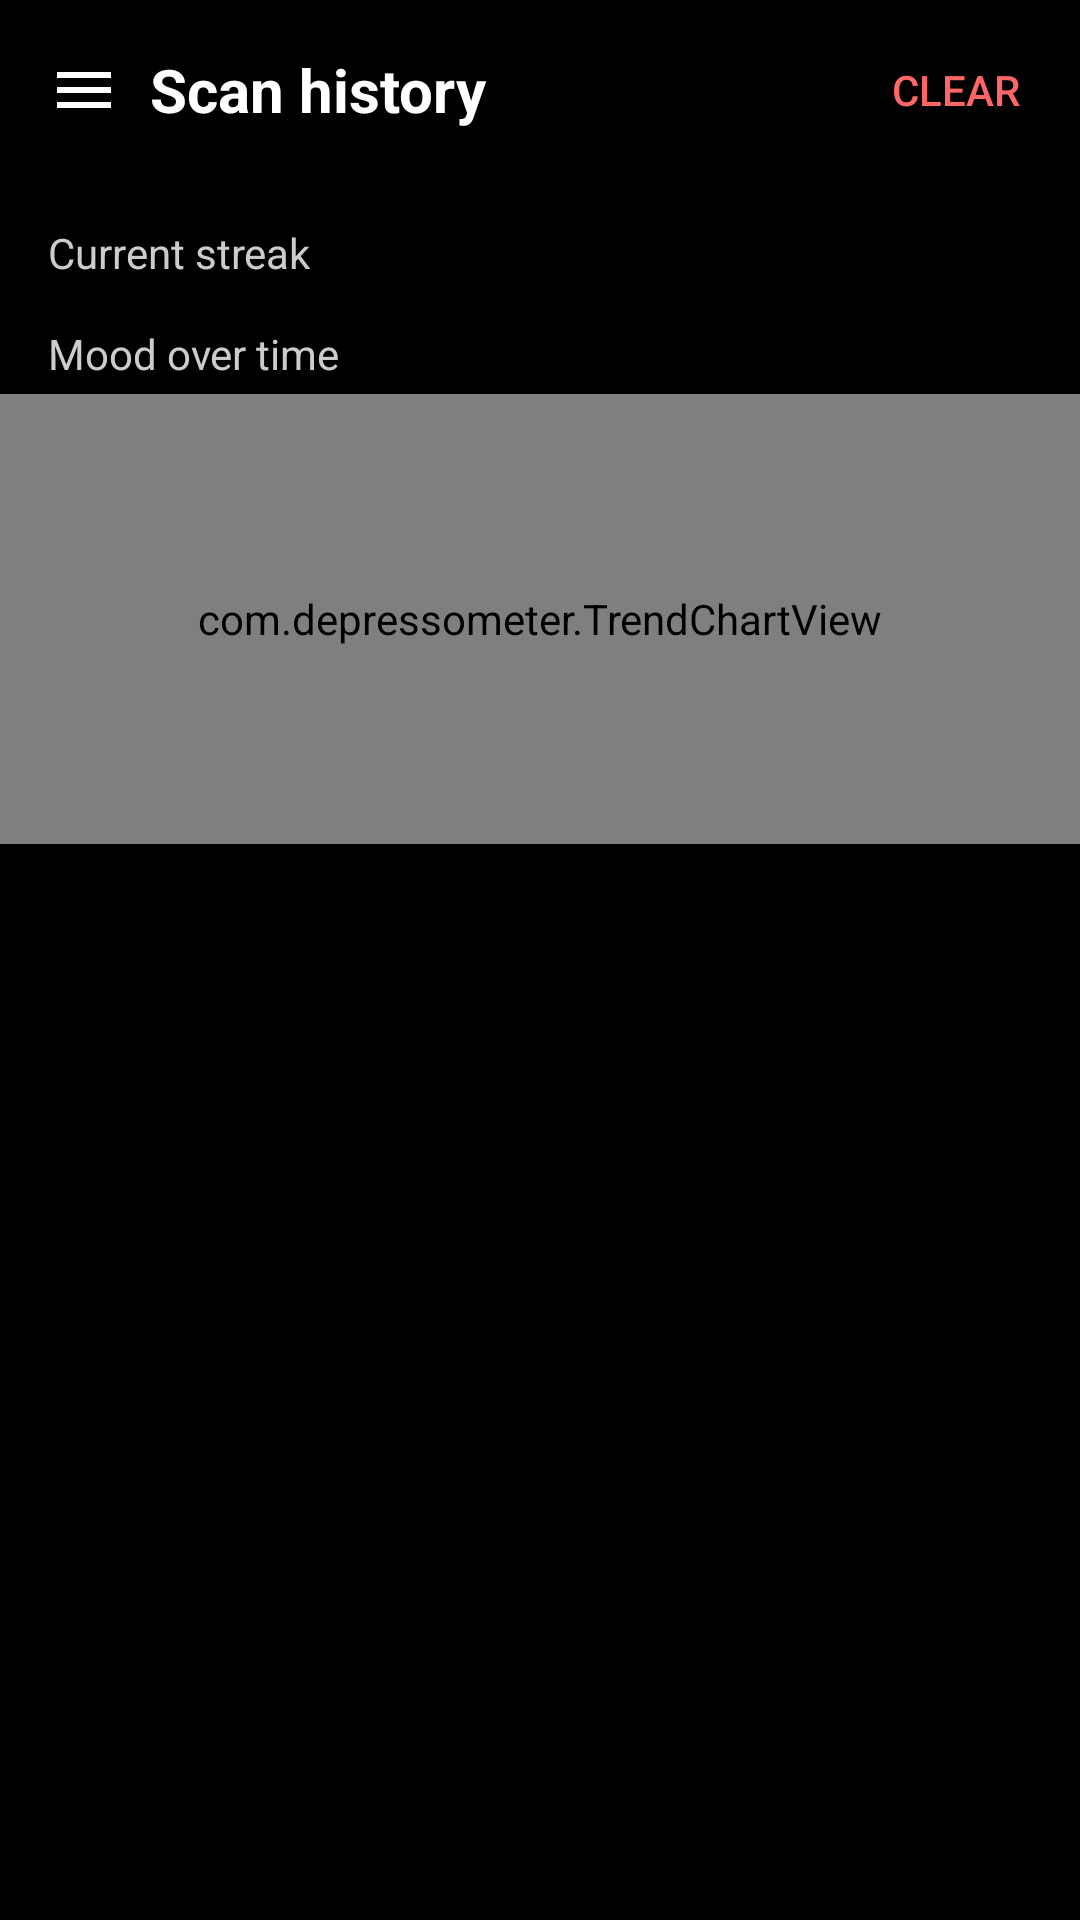

Named icons in this screenshot (1080w x 1920h) and their bounding boxes, (x1, y1, x2, y2):
Open menu: (57, 72, 111, 108)
